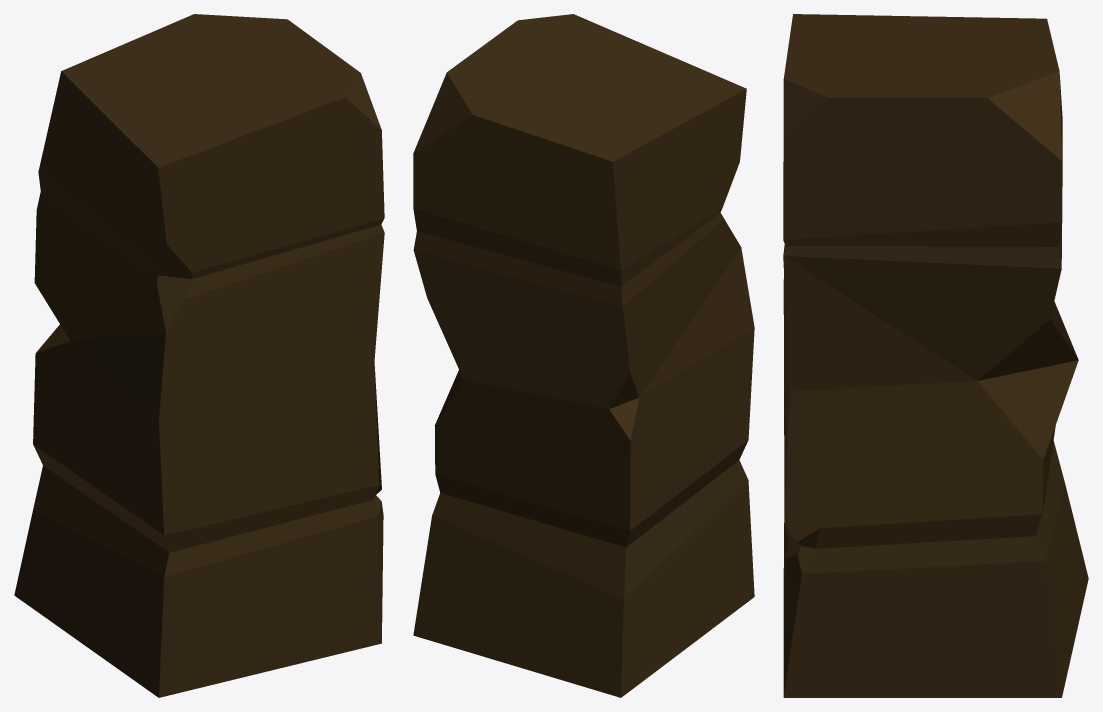
File: Pillar3.fbx
3 renders of one model, left to right at view 1: azimuth 30°, elevation 25°; view 2: azimuth 150°, elevation 25°; view 3: azimuth 270°, elevation 25°, orthographic. The views are drawn at different scales.
Visible parts, largest first — view 1: 立方体.005; view 2: 立方体.005; view 3: 立方体.005.
Part boxes in pixels (x1,y1,x2,y2): 立方体.005: (14,14,384,697); 立方体.005: (413,14,754,697); 立方体.005: (783,14,1088,697).
Bounding box in the file's own units: 2.13 × 4.76 × 2.2.
